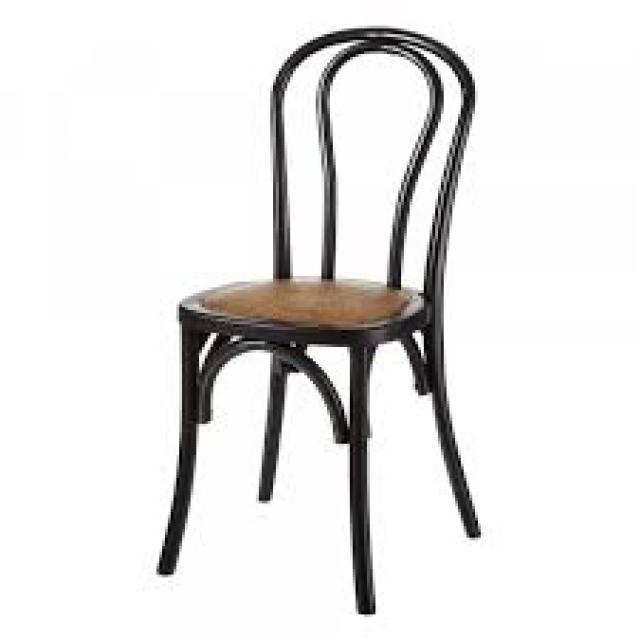bottle: (157, 27, 480, 616)
